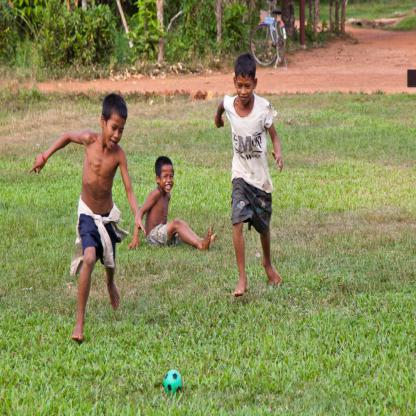Ball: (164, 367, 181, 395)
